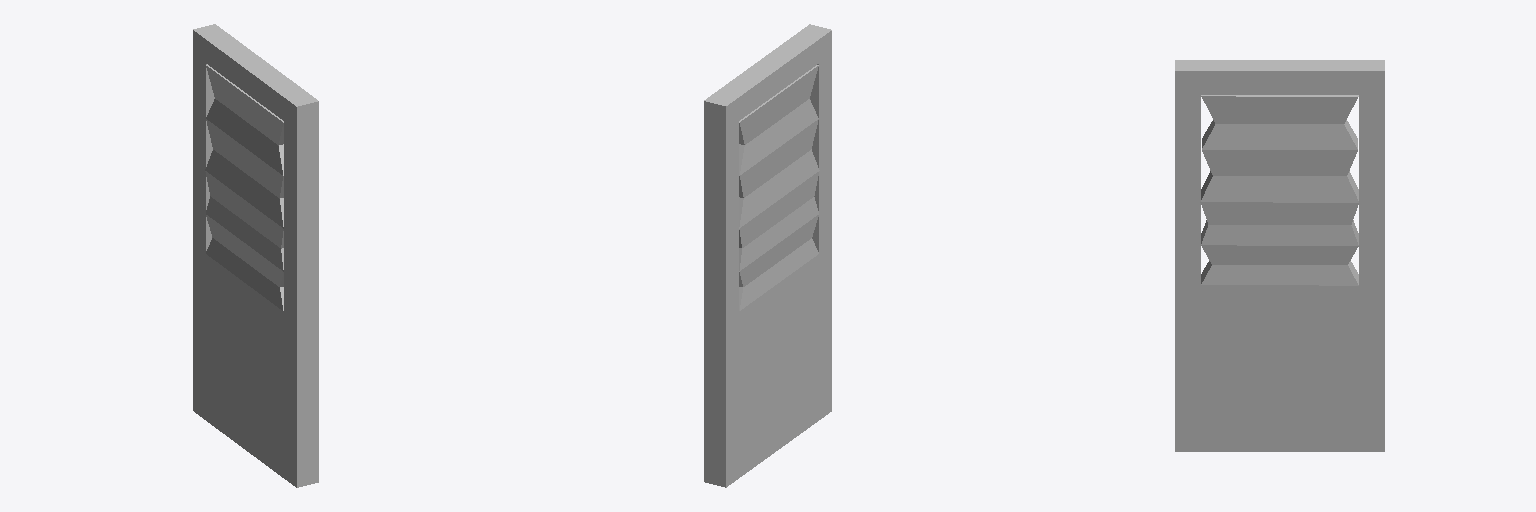
File: porta_b.obj
3 renders of one model, left to right at view 1: azimuth 30°, elevation 25°; view 2: azimuth 150°, elevation 25°; view 3: azimuth 270°, elevation 25°, orthographic.
Parts seen in each view (by area): view 1: Cylinder_Cylinder_door; view 2: Cylinder_Cylinder_door; view 3: Cylinder_Cylinder_door.
Boxes of the visible parts, <box> form: Cylinder_Cylinder_door: <box>193,24,318,487</box>; Cylinder_Cylinder_door: <box>704,24,831,487</box>; Cylinder_Cylinder_door: <box>1175,60,1384,451</box>.
Bounding box in the file's own units: 0.1309 × 2 × 1.